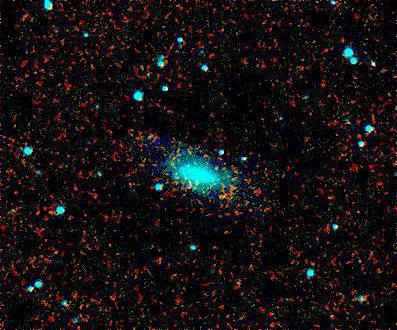star: (212, 182, 242, 212)
